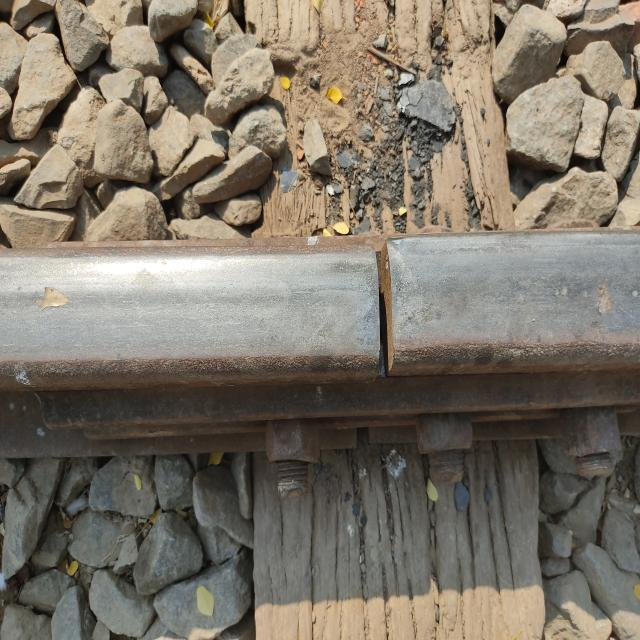Defective Joint: (0, 370, 640, 495)
